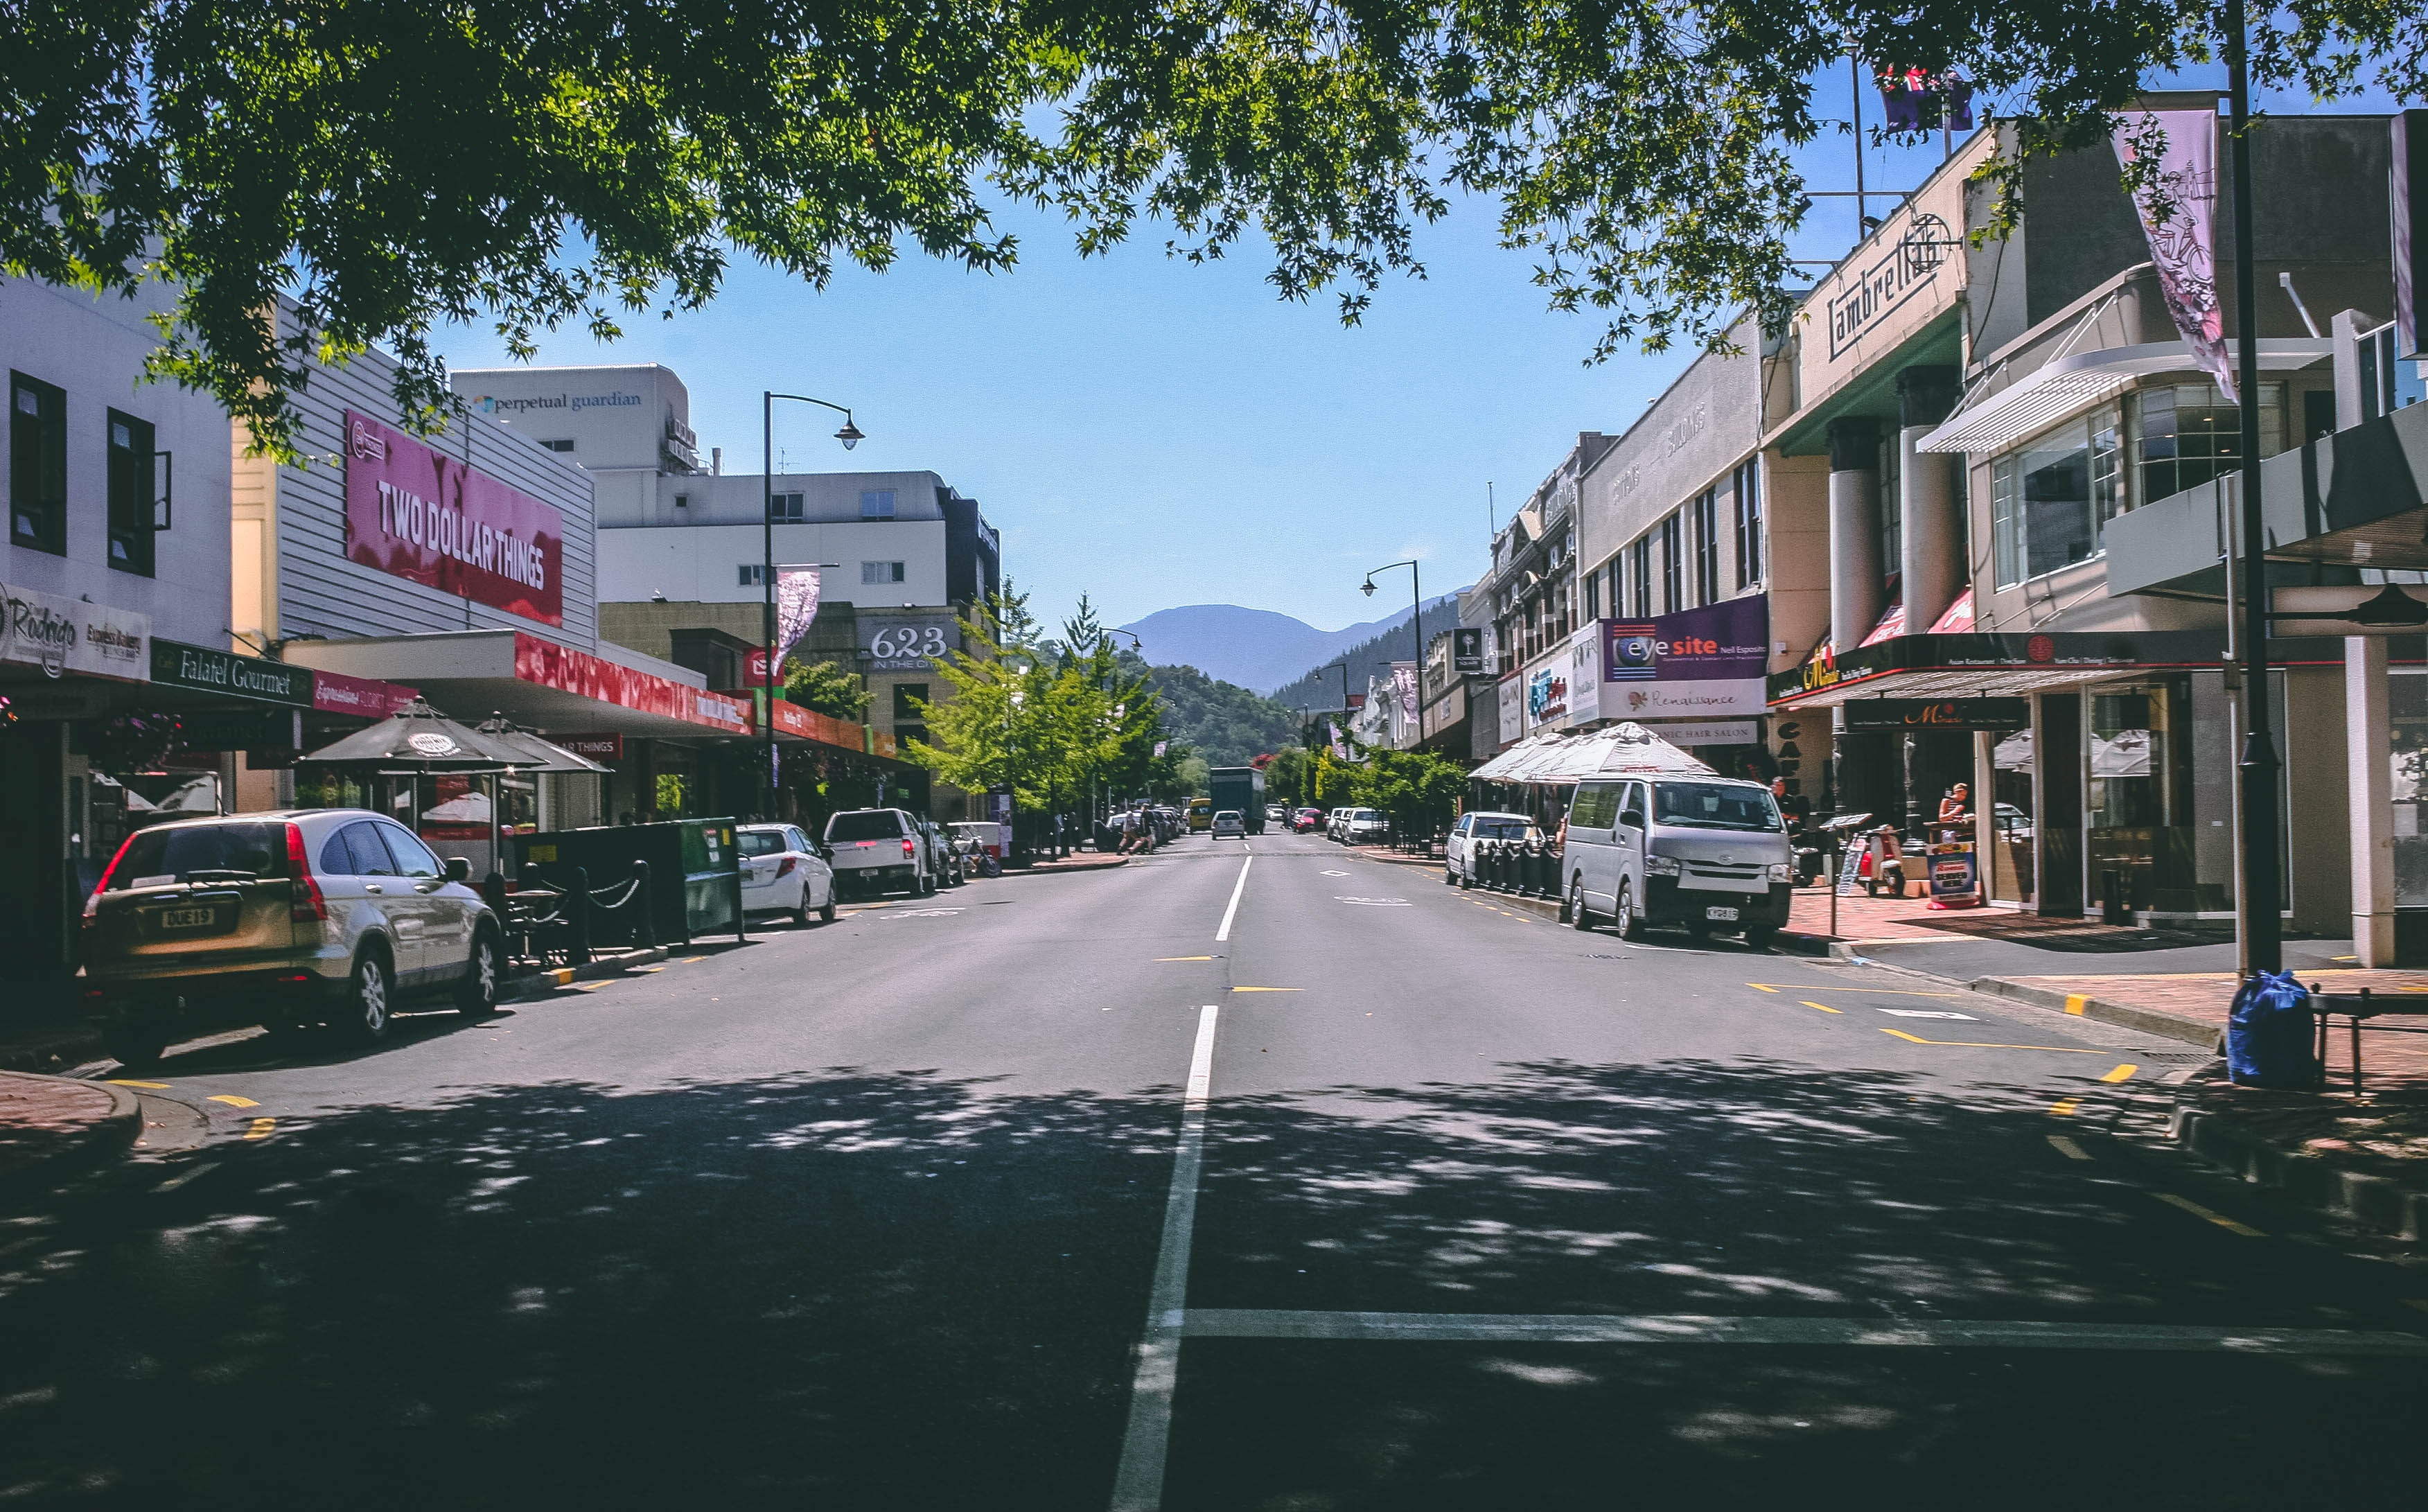car: (78, 808, 509, 1029), (1568, 777, 1797, 953), (725, 827, 840, 927), (826, 817, 932, 895), (1449, 813, 1528, 881)
